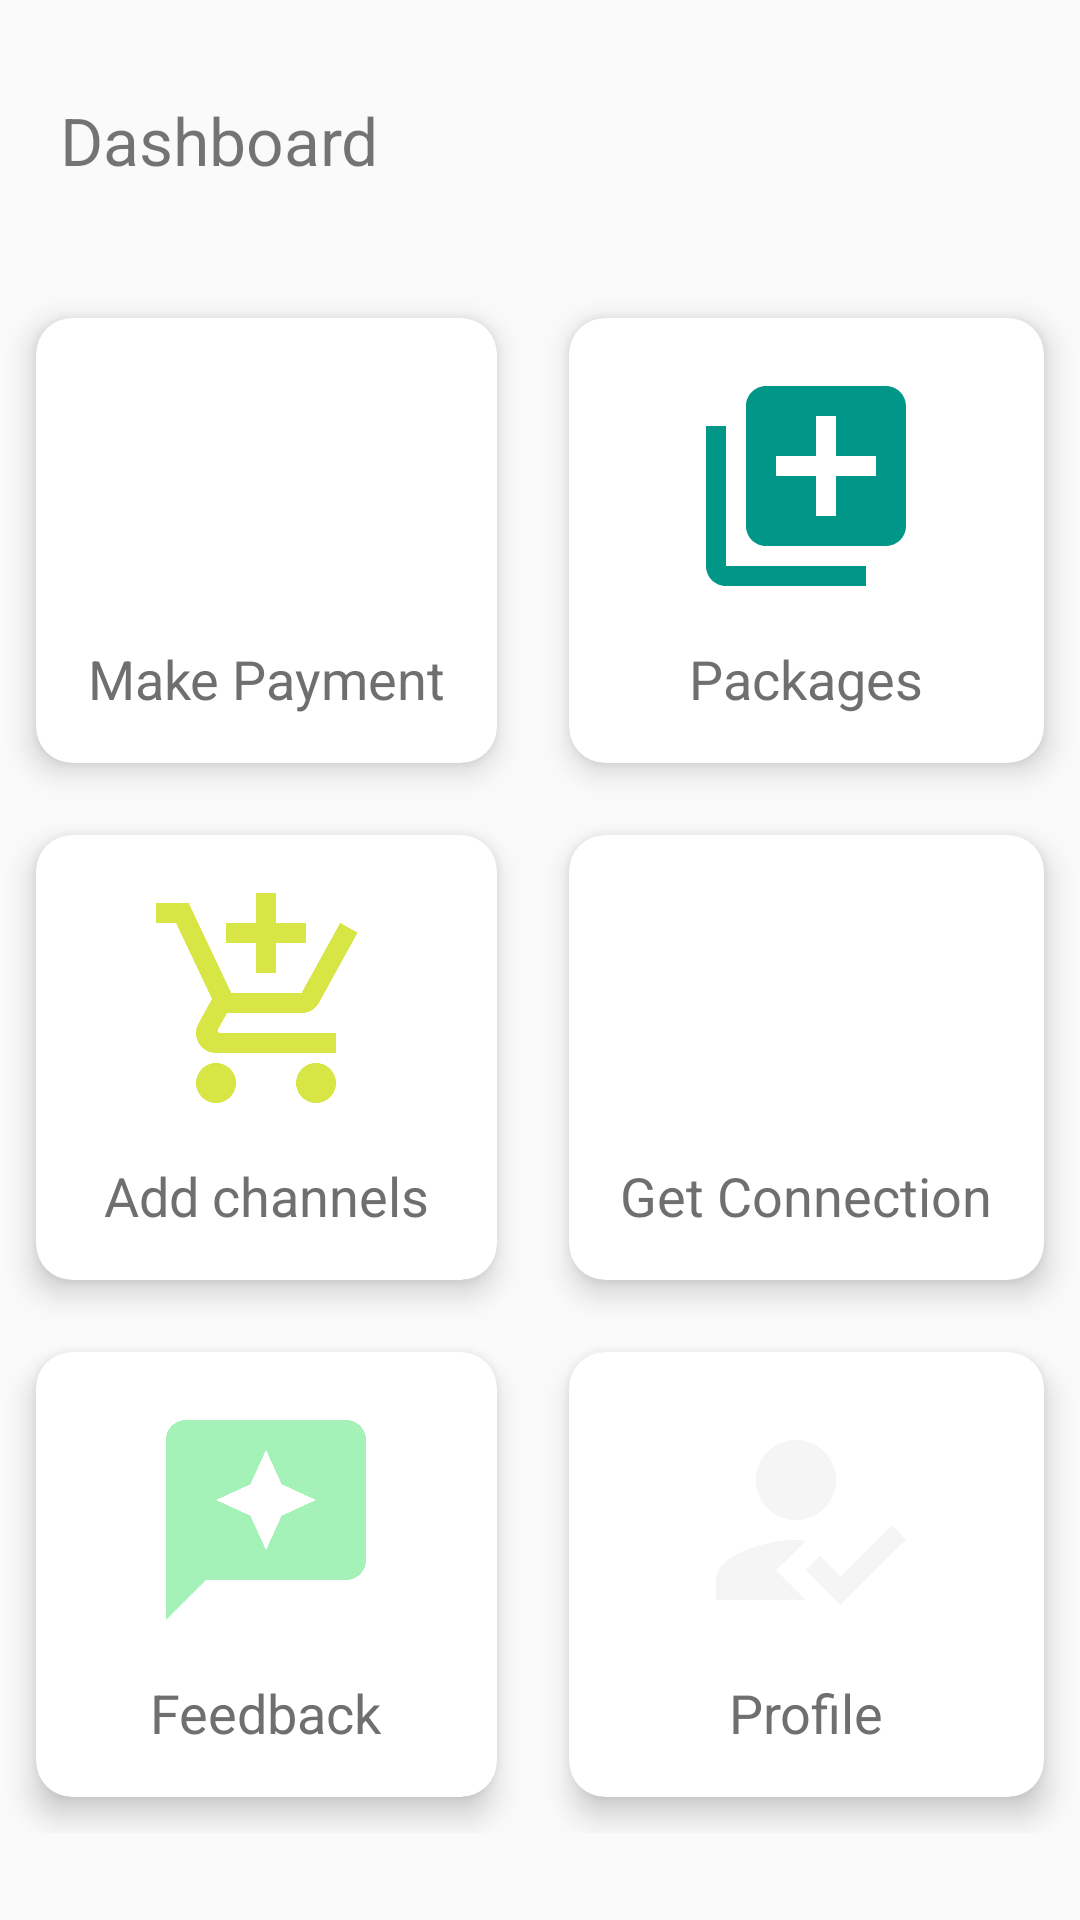

Where icons sit on this 1080px×1920px app screen, as (x1, y1, x2, y2):
addcart: (156, 893, 358, 1103)
